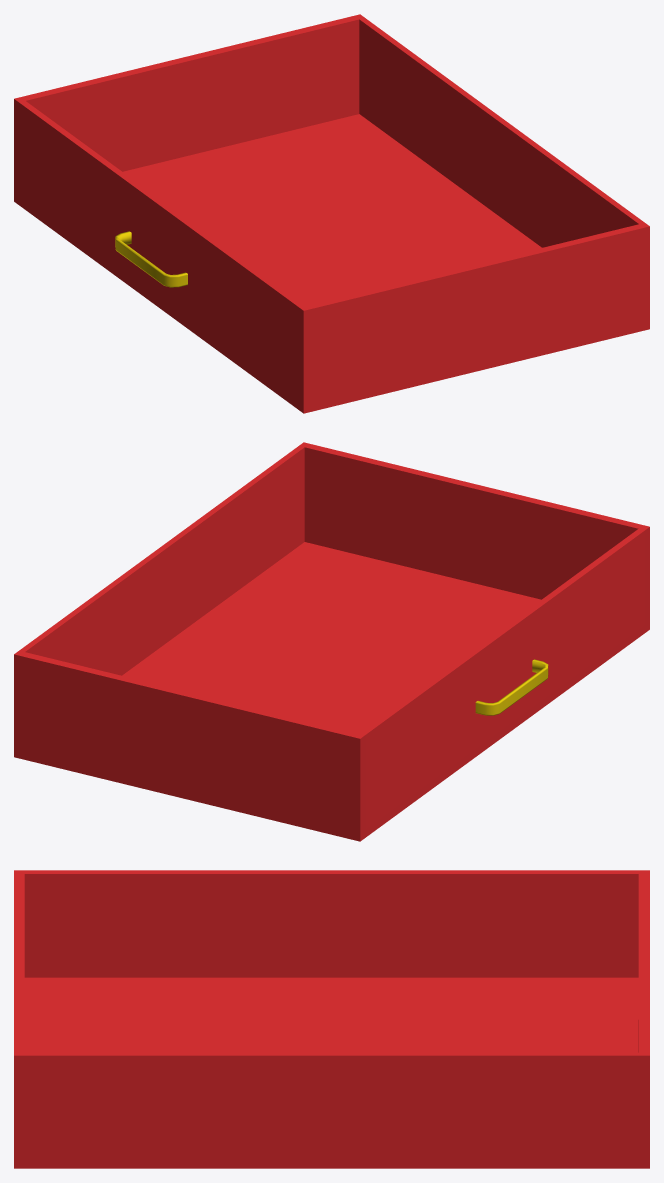
File: MOD_FUR_Bathroom_counter_door_01.fbx
The picture shows the model from 3 angles, top to bottom: view 1: azimuth 30°, elevation 25°; view 2: azimuth 150°, elevation 25°; view 3: azimuth 270°, elevation 25°; orthographic projection. The views are drawn at different scales.
Parts seen in each view (by area): view 1: HSHP_MOD_Bathroom_counter_door_01; view 2: HSHP_MOD_Bathroom_counter_door_01; view 3: HSHP_MOD_Bathroom_counter_door_01.
Part boxes in pixels (left/top/right/bottom): HSHP_MOD_Bathroom_counter_door_01: left=14, top=14, right=649, bottom=413; HSHP_MOD_Bathroom_counter_door_01: left=14, top=442, right=649, bottom=841; HSHP_MOD_Bathroom_counter_door_01: left=14, top=870, right=649, bottom=1168.
Size of the model in its own units: 65.84 by 17.73 by 90.54.
